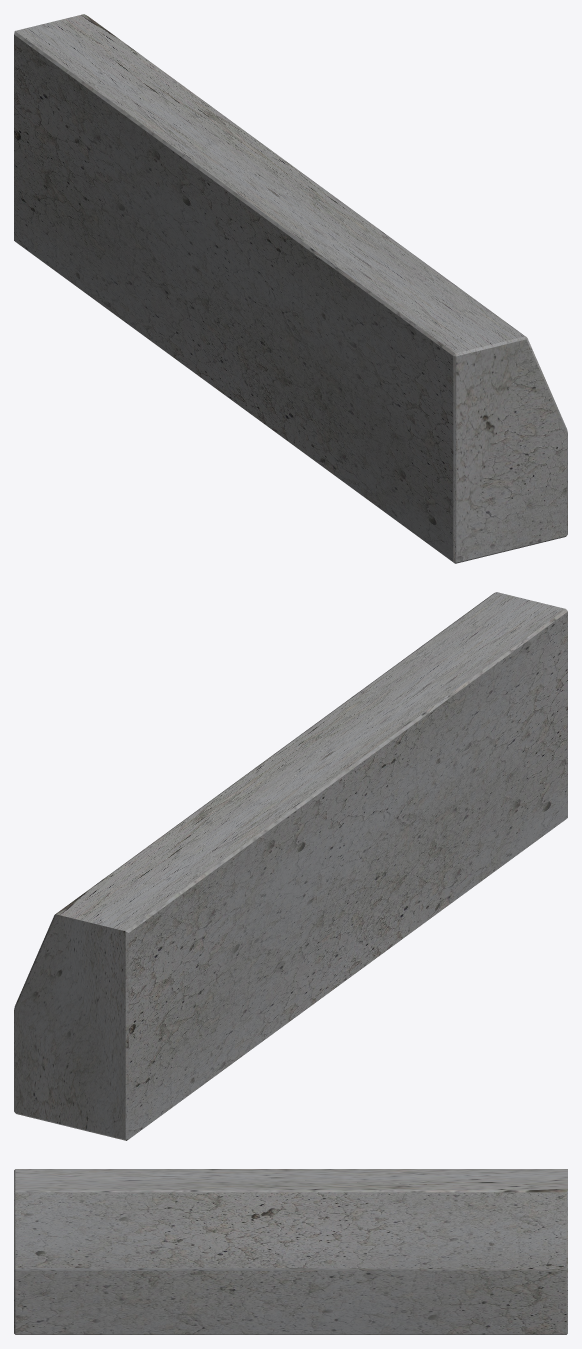
Rendered from Поребрик.FBX.
3 views of the same model, one above another, from view 1: azimuth 30°, elevation 25°; view 2: azimuth 150°, elevation 25°; view 3: azimuth 270°, elevation 25° (orthographic). The views are drawn at different scales.
Parts seen in each view (by area): view 1: Box001; view 2: Box001; view 3: Box001.
Part boxes in pixels (x1,y1,x2,y2): Box001: (14, 14, 567, 563); Box001: (14, 592, 567, 1140); Box001: (14, 1169, 567, 1334).
Size of the model in its own units: 13.44 by 23.57 by 89.61.
